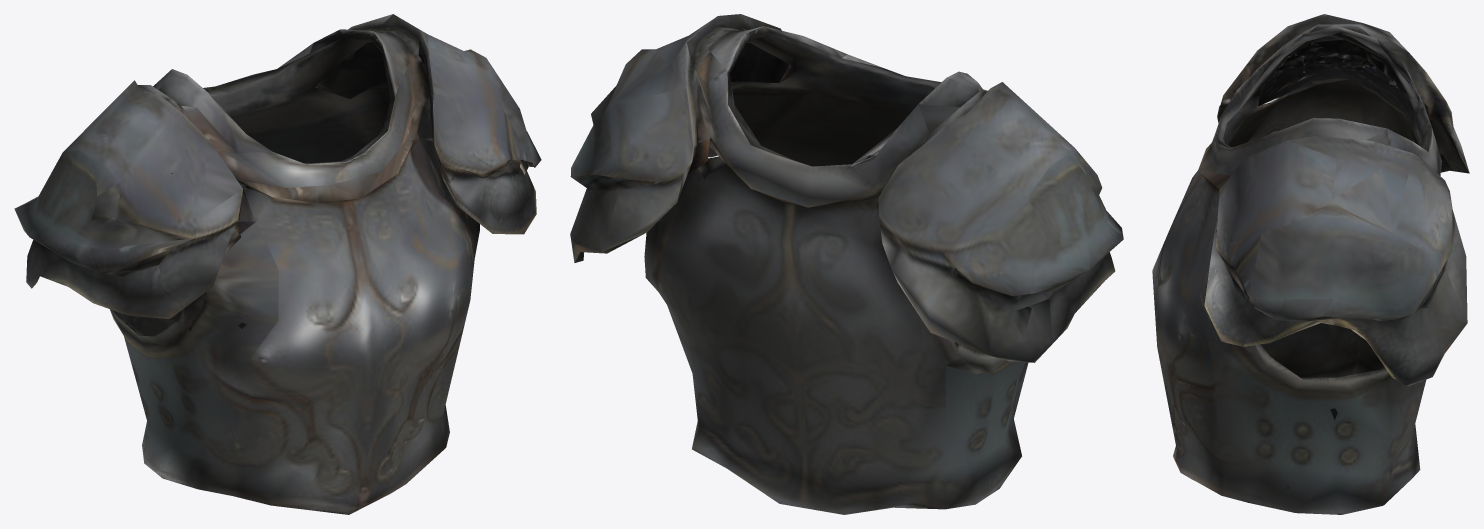
Rendered from breast_plate.comp.glb.
3 views of the same model, side by side, from view 1: azimuth 30°, elevation 25°; view 2: azimuth 150°, elevation 25°; view 3: azimuth 270°, elevation 25° (orthographic). The views are drawn at different scales.
Parts seen in each view (by area): view 1: breast-plate; view 2: breast-plate; view 3: breast-plate.
Boxes of the visible parts, bbox=[...] form: breast-plate: bbox=[14, 14, 541, 514]; breast-plate: bbox=[570, 14, 1123, 514]; breast-plate: bbox=[1152, 14, 1469, 514].
Size of the model in its own units: 0.9982 by 0.8018 by 0.5811.
1 material, 1 textured.
